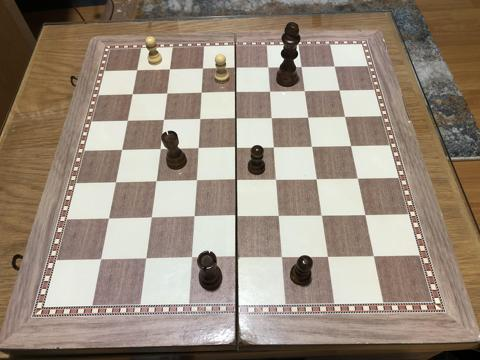xcorner: (197, 63, 209, 76), (230, 86, 242, 99), (338, 110, 350, 123), (344, 140, 357, 152), (306, 140, 318, 153), (155, 143, 167, 156), (270, 174, 283, 186), (230, 174, 242, 187), (150, 176, 163, 188), (328, 60, 340, 72), (295, 61, 307, 73), (262, 62, 274, 74), (230, 63, 242, 75), (165, 64, 177, 76), (133, 65, 145, 77), (333, 84, 345, 96), (298, 85, 310, 97), (264, 86, 276, 98), (196, 87, 208, 99), (162, 88, 174, 100), (128, 89, 140, 101), (302, 111, 314, 123), (266, 112, 278, 124), (230, 113, 242, 125), (194, 114, 206, 126), (158, 114, 170, 126), (123, 115, 135, 127), (268, 141, 280, 153), (230, 142, 242, 154), (192, 143, 204, 155), (117, 144, 129, 156), (351, 172, 363, 184), (311, 173, 323, 185), (190, 175, 202, 187), (111, 177, 123, 189), (359, 209, 371, 221), (316, 210, 328, 222), (273, 210, 285, 222), (231, 211, 243, 223), (188, 212, 200, 224), (146, 212, 158, 224), (104, 213, 116, 225), (368, 250, 380, 262), (322, 251, 334, 263), (276, 252, 288, 264), (231, 252, 243, 264), (186, 253, 198, 265), (141, 254, 153, 266), (96, 254, 108, 266)
